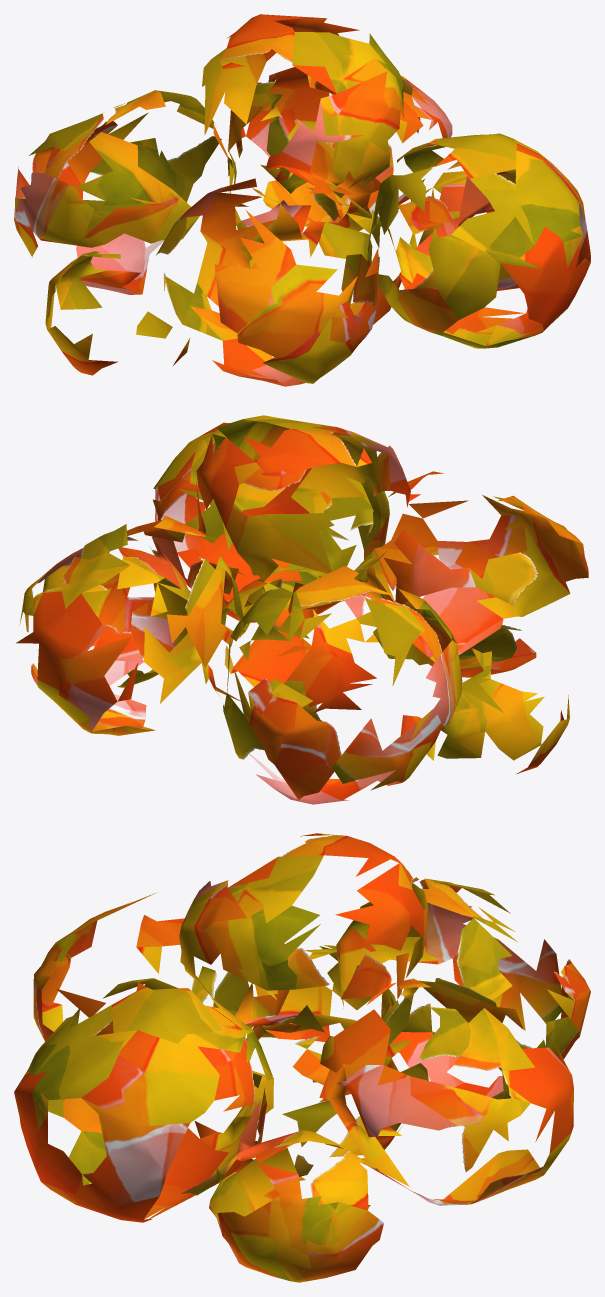
The model's file is citrine_gem_pile_3500tris.fbx.
The picture shows the model from 3 angles, top to bottom: view 1: azimuth 30°, elevation 25°; view 2: azimuth 150°, elevation 25°; view 3: azimuth 270°, elevation 25°; orthographic projection. The views are drawn at different scales.
Parts seen in each view (by area): view 1: citrine_gem_pile_decimated; view 2: citrine_gem_pile_decimated; view 3: citrine_gem_pile_decimated.
Part boxes in pixels (left/top/right/bottom): citrine_gem_pile_decimated: left=14, top=14, right=590, bottom=386; citrine_gem_pile_decimated: left=16, top=415, right=588, bottom=804; citrine_gem_pile_decimated: left=14, top=833, right=590, bottom=1282.
Bounding box in the file's own units: 1.91 × 1.07 × 1.74.
